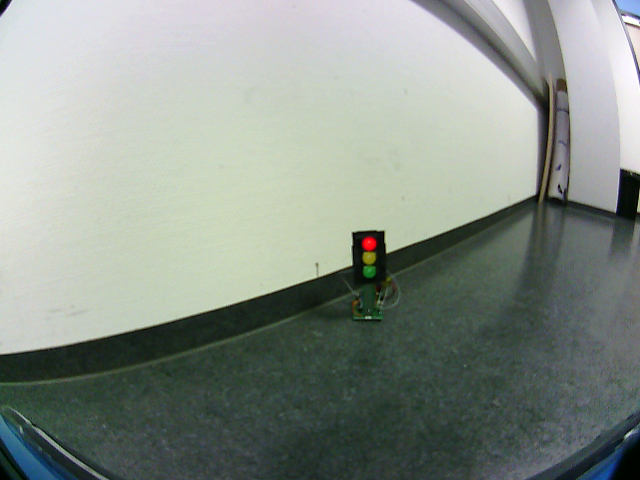red trafficlight: (352, 233, 382, 281)
